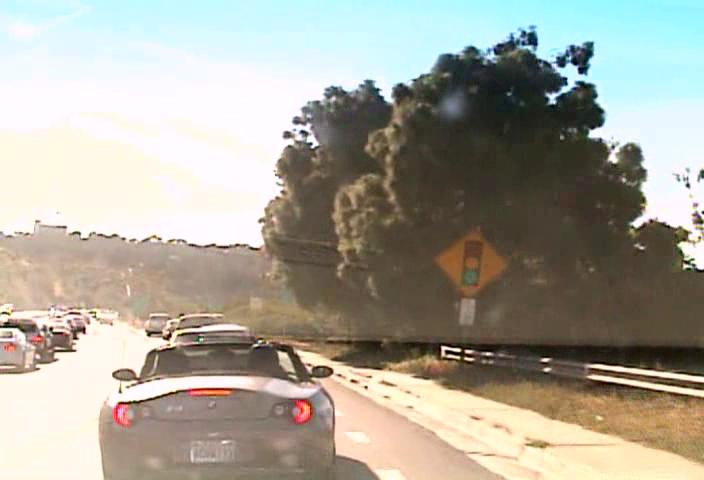signalAhead: (434, 226, 507, 297)
